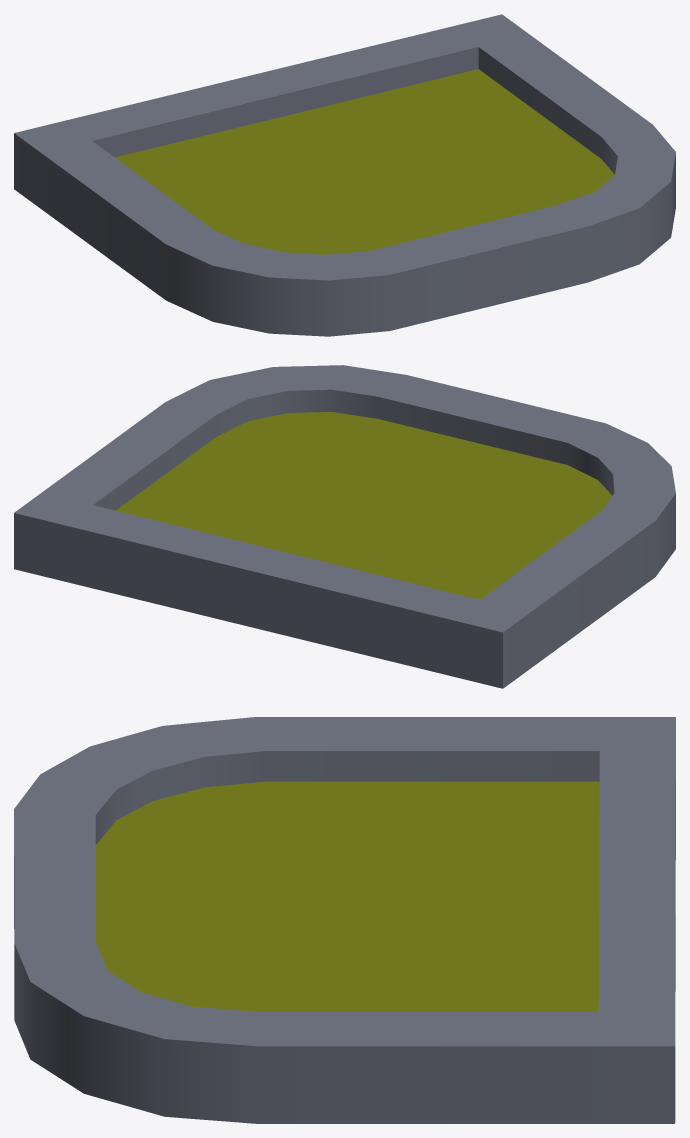
Rendered from flowerbed_v2.fbx.
The picture shows the model from 3 angles, top to bottom: view 1: azimuth 30°, elevation 25°; view 2: azimuth 150°, elevation 25°; view 3: azimuth 270°, elevation 25°; orthographic projection. The views are drawn at different scales.
Visible parts, largest first — view 1: flowerbed_v2; view 2: flowerbed_v2; view 3: flowerbed_v2.
Boxes of the visible parts, left/top/right/bottom form: flowerbed_v2: left=14, top=14, right=675, bottom=336; flowerbed_v2: left=14, top=365, right=675, bottom=688; flowerbed_v2: left=14, top=717, right=675, bottom=1123.
Size of the model in its own units: 134 by 14.74 by 114.
